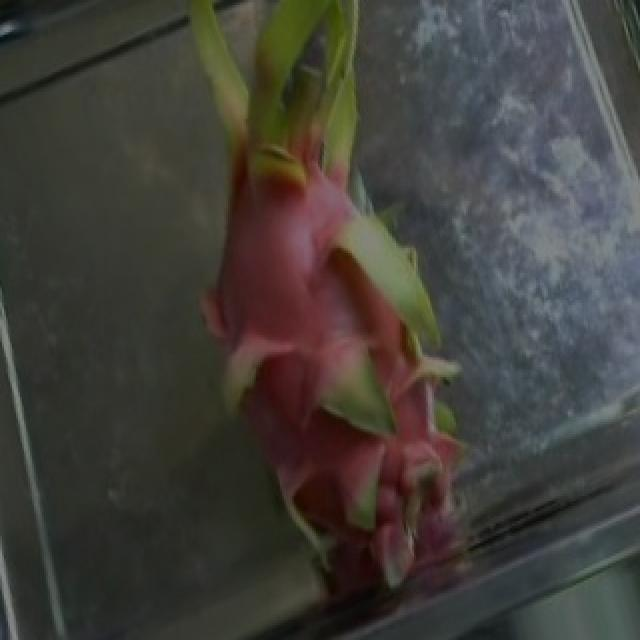fruit: (162, 137, 580, 606), (96, 0, 504, 409)
